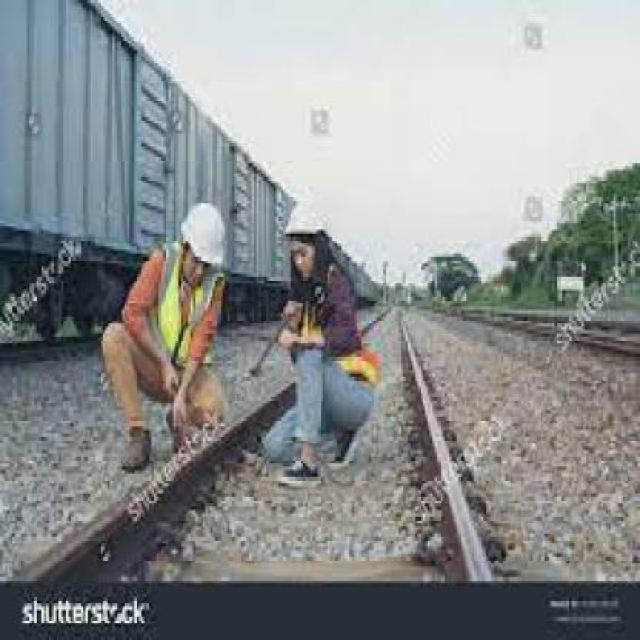danger: (255, 196, 384, 492), (99, 189, 228, 478)
rail: (0, 290, 527, 573)
